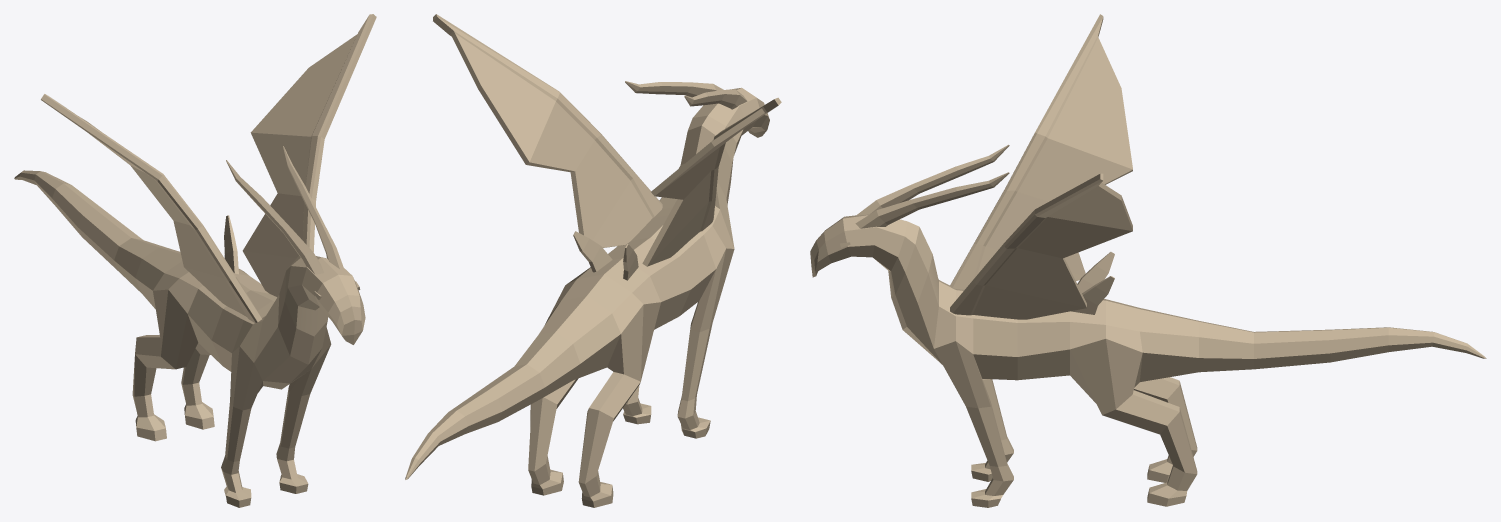
The model's file is jiaolong.glb.
3 renders of one model, left to right at view 1: azimuth 30°, elevation 25°; view 2: azimuth 150°, elevation 25°; view 3: azimuth 270°, elevation 25°, orthographic. The views are drawn at different scales.
Visible parts, largest first — view 1: Geo_Dragon; view 2: Geo_Dragon; view 3: Geo_Dragon.
Part boxes in pixels (box(x1,y1,x2,y2)): Geo_Dragon: box(14, 14, 376, 507); Geo_Dragon: box(405, 14, 781, 507); Geo_Dragon: box(810, 14, 1486, 507).
Bounding box in the file's own units: 240 × 273 × 422.
